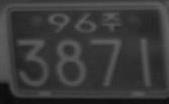1: (130, 38, 160, 87)
3: (17, 38, 50, 88)
6: (74, 13, 97, 34)
7: (89, 38, 123, 87)
8: (54, 38, 87, 87)
9: (47, 12, 71, 33)
주: (100, 11, 121, 31)
